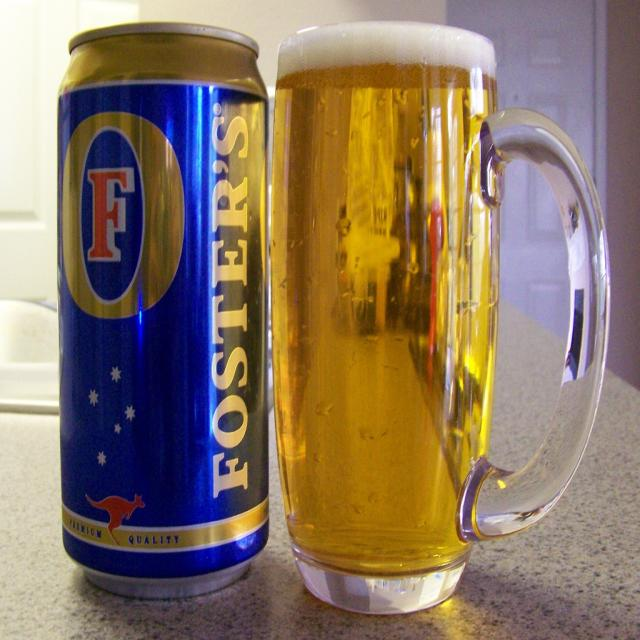fosters: (62, 108, 187, 323)
